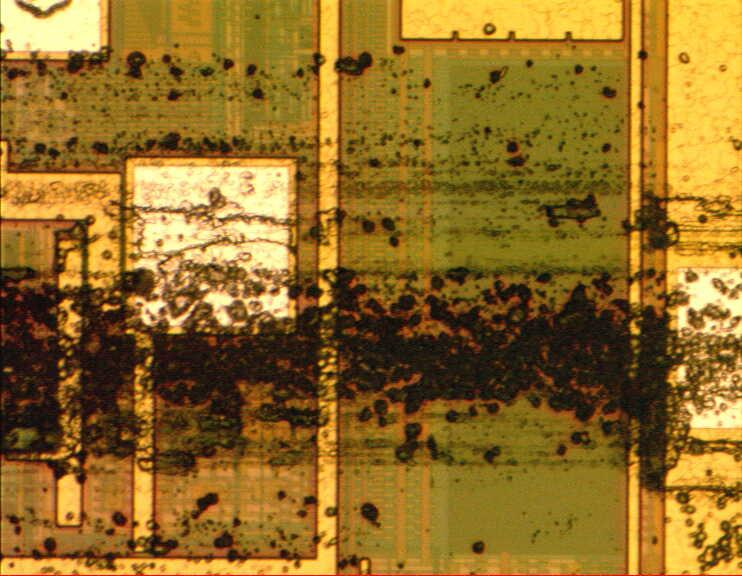PO CONTAMINATION: (1, 10, 742, 576)
